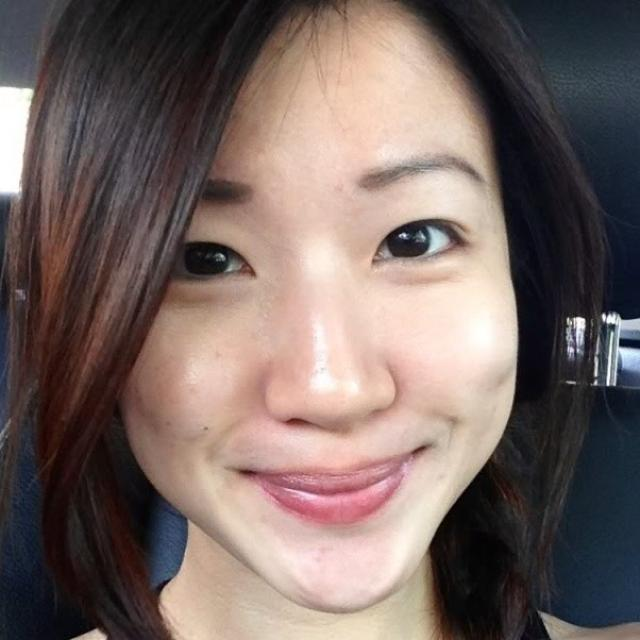Normal: (106, 0, 524, 610)
